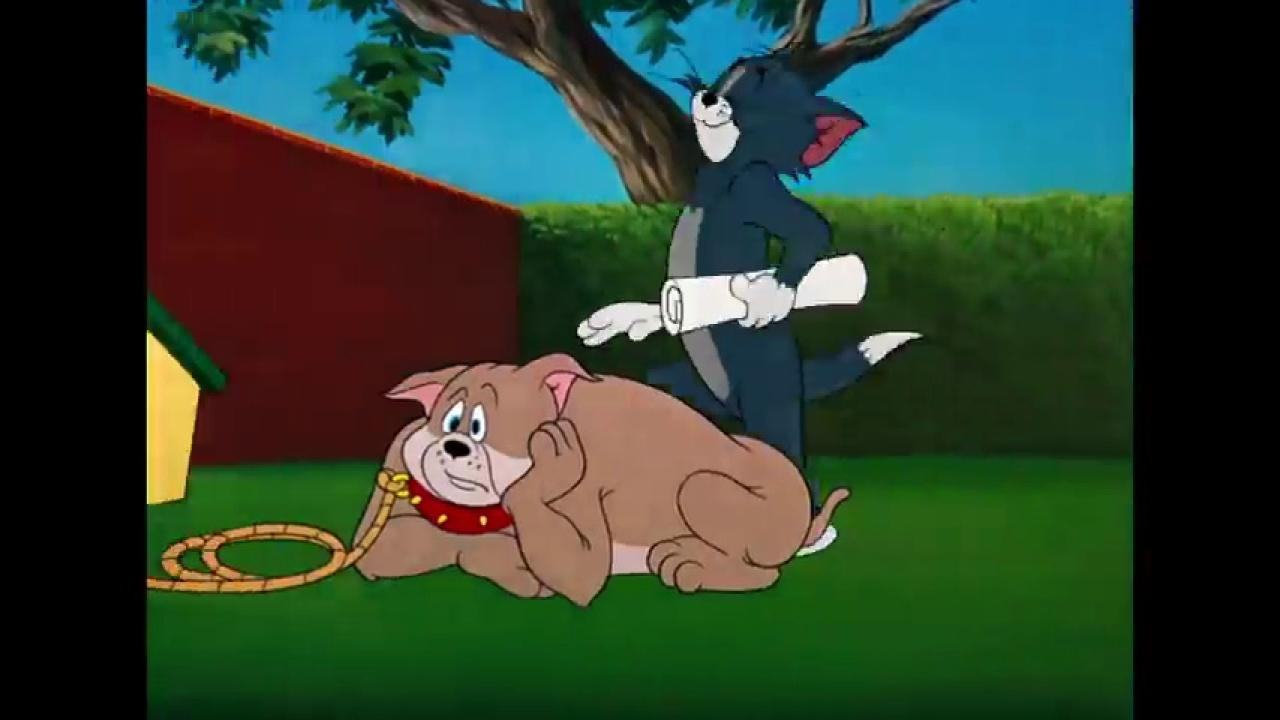Tom: (577, 45, 927, 469)
